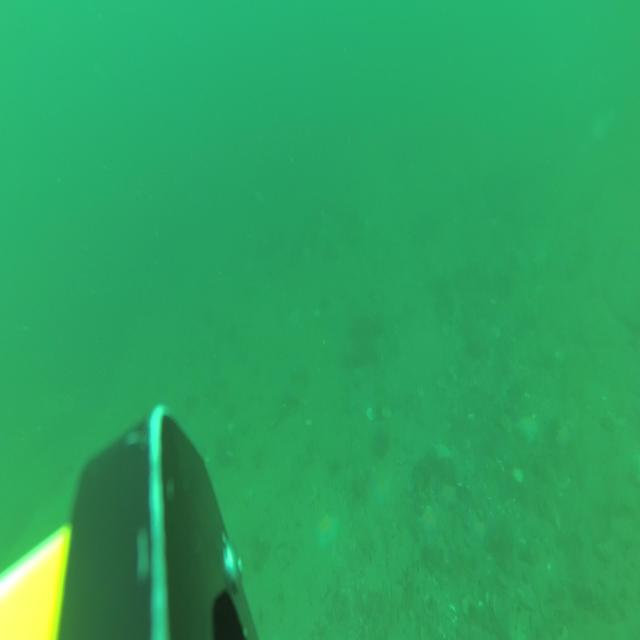holothurian: (570, 580, 618, 626)
starfish: (314, 510, 341, 550), (418, 500, 443, 542), (513, 411, 539, 444)
